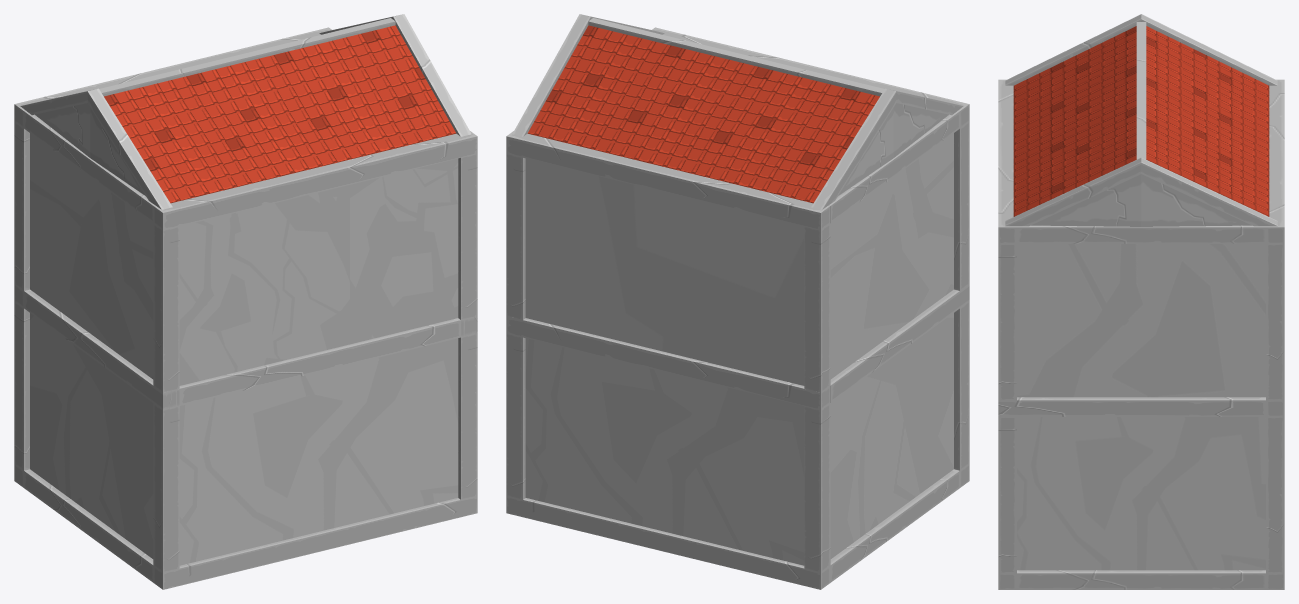
The model's file is House3.fbx.
3 renders of one model, left to right at view 1: azimuth 30°, elevation 25°; view 2: azimuth 150°, elevation 25°; view 3: azimuth 270°, elevation 25°, orthographic. The views are drawn at different scales.
Visible parts, largest first — view 1: polySurface84; view 2: polySurface84; view 3: polySurface84.
Part boxes in pixels (x1,y1,x2,y2): polySurface84: [14, 14, 477, 589]; polySurface84: [506, 14, 969, 589]; polySurface84: [998, 14, 1284, 589].
Size of the model in its own units: 906 by 1216 by 737.
